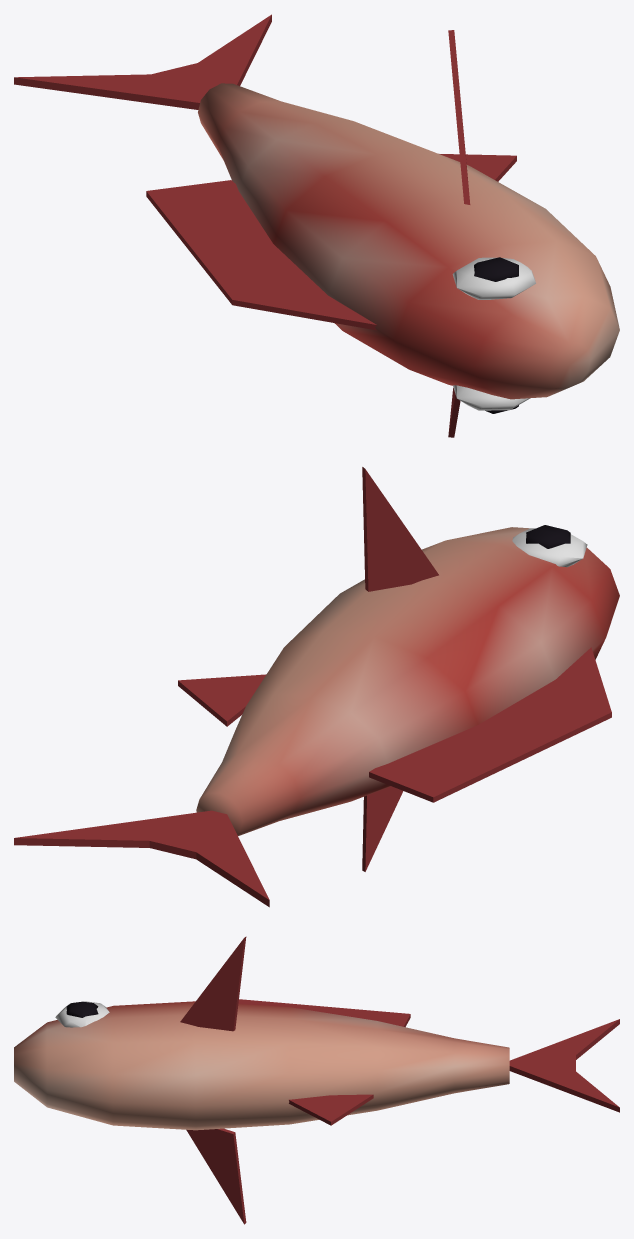
The model's file is fish_grouper_raw.glb.
3 renders of one model, top to bottom at view 1: azimuth 30°, elevation 25°; view 2: azimuth 150°, elevation 25°; view 3: azimuth 270°, elevation 25°, orthographic. The views are drawn at different scales.
Visible parts, largest first — view 1: fish_grouper_raw; view 2: fish_grouper_raw; view 3: fish_grouper_raw.
Boxes of the visible parts, x1=… form: fish_grouper_raw: x1=14, y1=14, x2=619, y2=437; fish_grouper_raw: x1=14, y1=467, x2=619, y2=907; fish_grouper_raw: x1=14, y1=936, x2=619, y2=1224.
Bounding box in the file's own units: 0.4158 × 0.4485 × 0.858.
